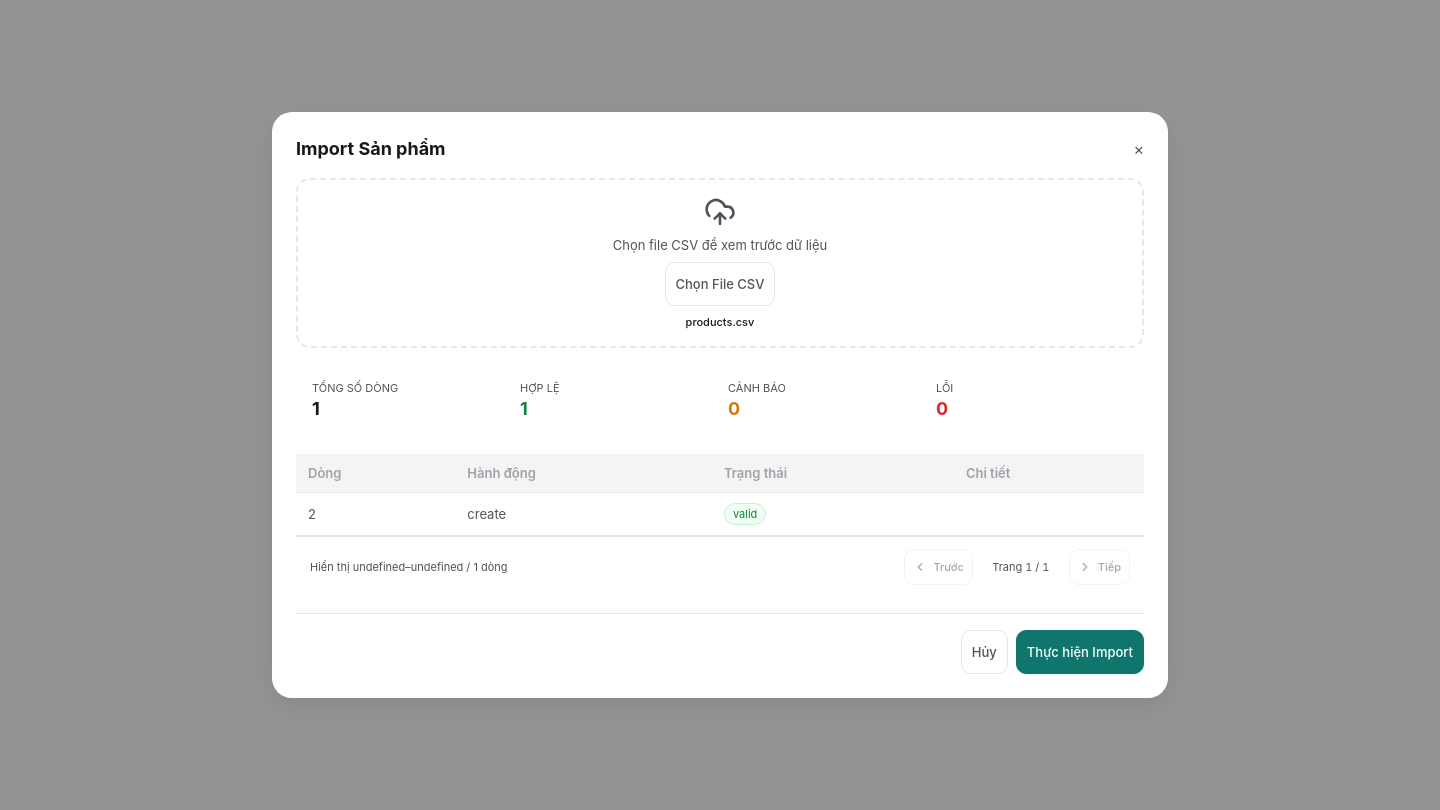
Test: ImportDialog idempotency contract › reuses the preview identity after an ambiguous apply failure
The image size is (1440, 810).
Earlier steps of the test are not shown.
Click the button "Thực hiện Import" at coordinates (1080, 652), box [1016,630,1144,674]
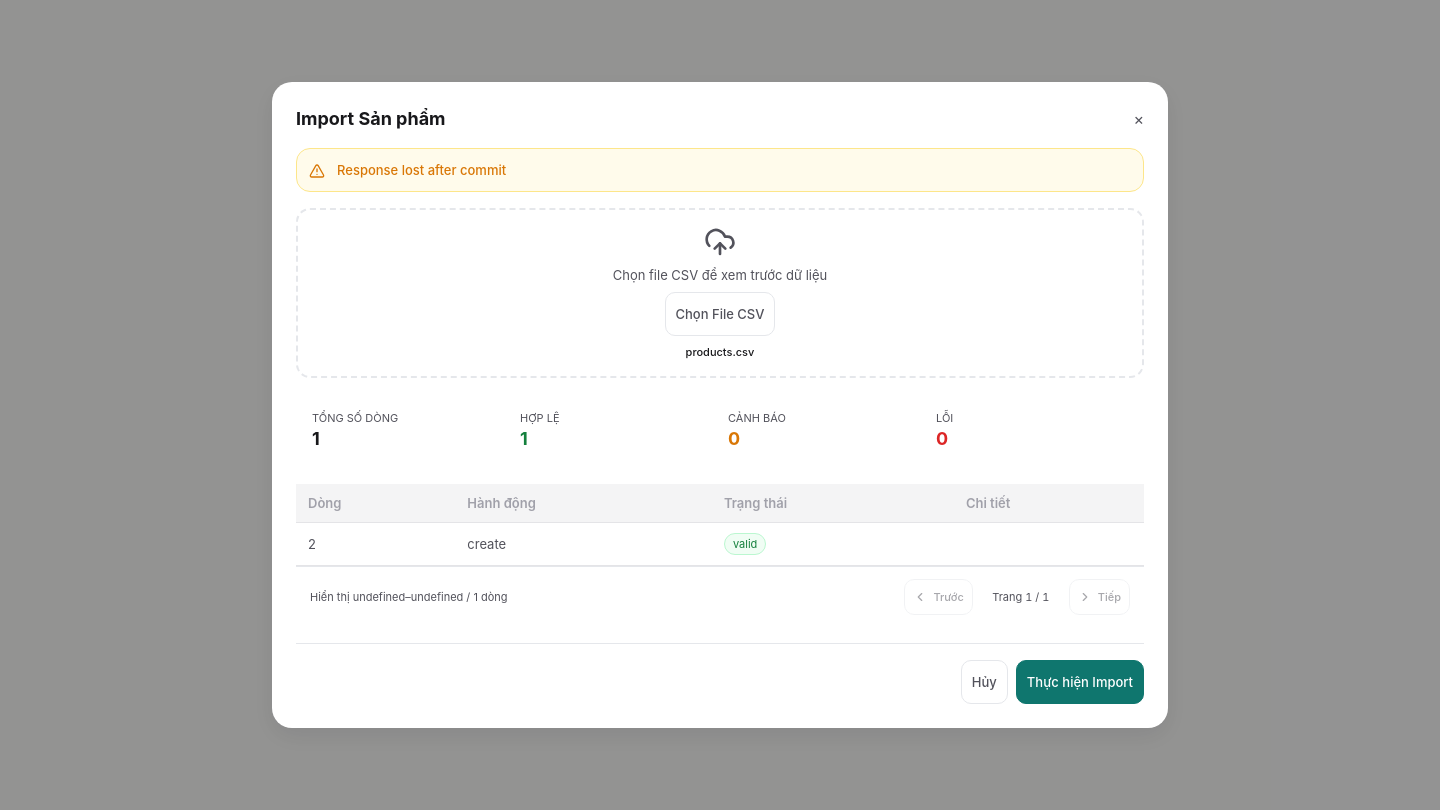
Expected: the message "Response lost after commit" is shown, [296,148,1144,192]
Click the button "Thực hiện Import" at coordinates (1080, 682), box [1016,660,1144,704]
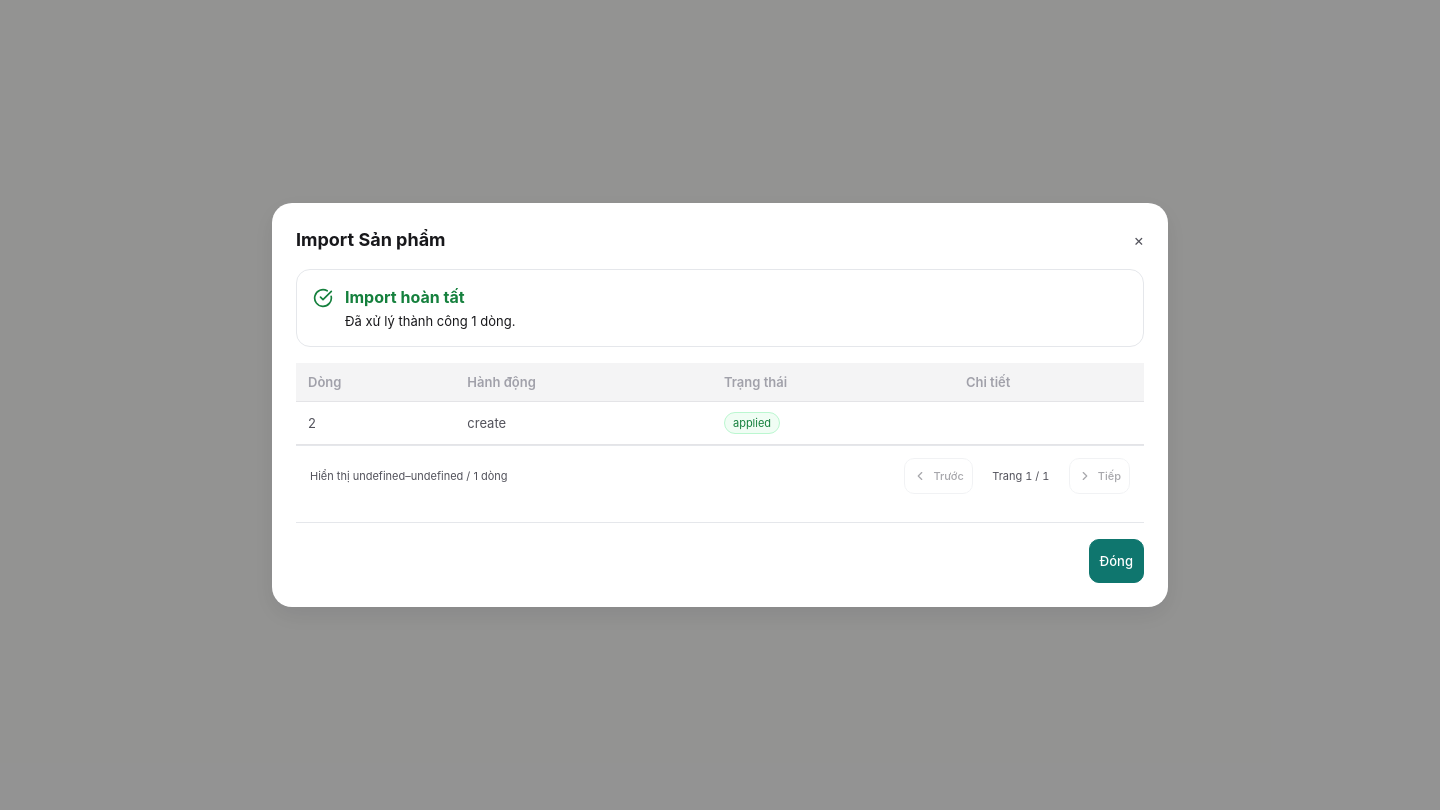
Expected: the text "Import hoàn tất" is shown, [345,287,464,307]
